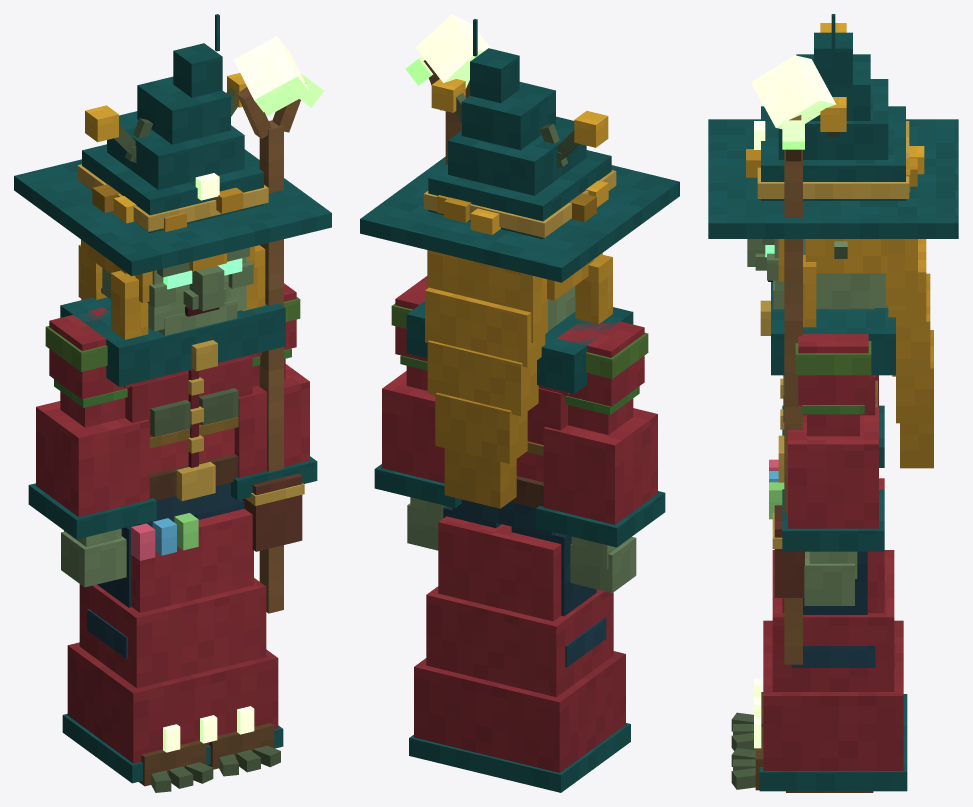
File: dryad_mage_v2.glb
3 views of the same model, side by side, from view 1: azimuth 30°, elevation 25°; view 2: azimuth 150°, elevation 25°; view 3: azimuth 270°, elevation 25° (orthographic). The views are drawn at different scales.
Visible parts, largest first — view 1: Head, Root, Torso, ArmR, HandL, ArmL, LegR, LegL; view 2: Head, Root, ArmR, ArmL, Torso, HandL, LegR; view 3: Head, Root, ArmL, HandL, Torso, LegL, ArmR.
Boxes of the visible parts, x1,y1,x2,y2 form: Head: (14,14,331,339); Root: (62,509,283,792); Torso: (60,297,304,560); ArmR: (28,307,156,587); HandL: (234,36,323,613); ArmL: (231,283,317,500); LegR: (87,520,206,786); LegL: (194,499,274,769); Head: (360,19,679,508); Root: (409,516,630,792); ArmR: (536,321,665,592); ArmL: (374,276,461,550); Torso: (406,301,633,536); HandL: (405,14,490,164); LegR: (511,526,606,667); Head: (708,14,958,468); Root: (731,478,907,791); ArmL: (782,334,884,605); HandL: (751,55,836,664); Torso: (760,282,895,597); LegL: (755,551,875,792); ArmR: (782,375,884,467).
Size of the model in its own units: 0.8034 by 2.23 by 0.66.
46 materials, 46 textured.
